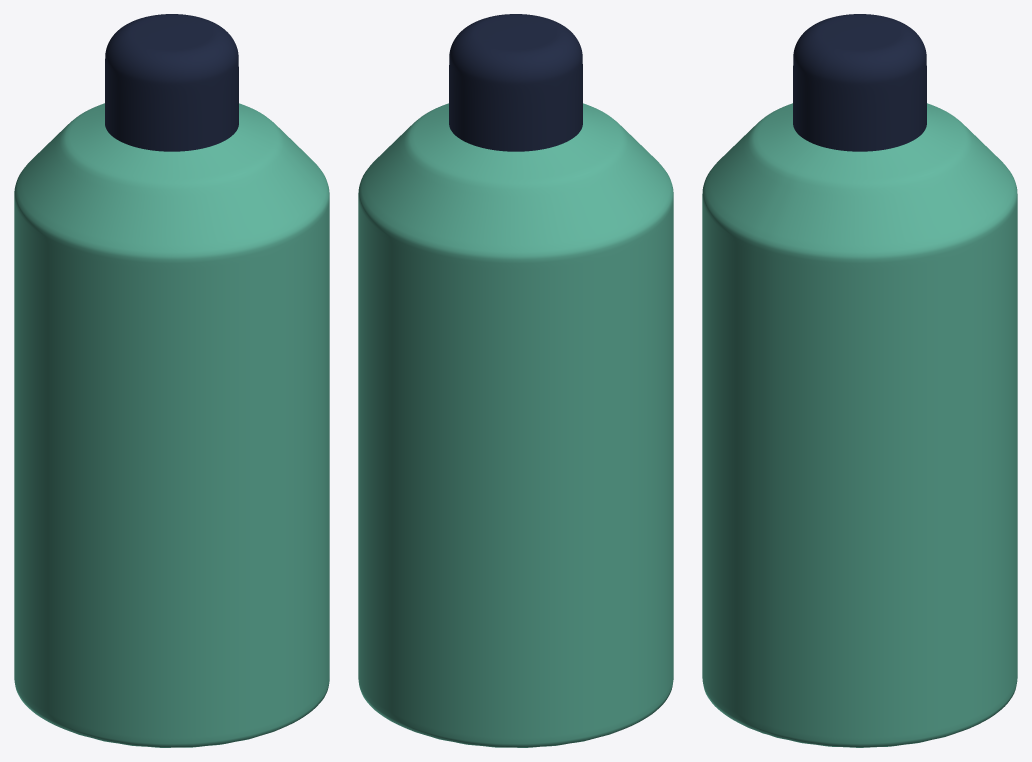
Rendered from Bottle.fbx.
The picture shows the model from 3 angles, left to right: view 1: azimuth 30°, elevation 25°; view 2: azimuth 150°, elevation 25°; view 3: azimuth 270°, elevation 25°; orthographic projection.
Visible parts, largest first — view 1: Circle, Circle.001; view 2: Circle, Circle.001; view 3: Circle, Circle.001.
Boxes of the visible parts, <box> form: Circle: <box>14,103,329,747</box>; Circle.001: <box>105,14,238,151</box>; Circle: <box>358,103,673,747</box>; Circle.001: <box>449,14,582,151</box>; Circle: <box>702,103,1017,747</box>; Circle.001: <box>793,14,926,151</box>.
Size of the model in its own units: 145 by 331 by 145.
